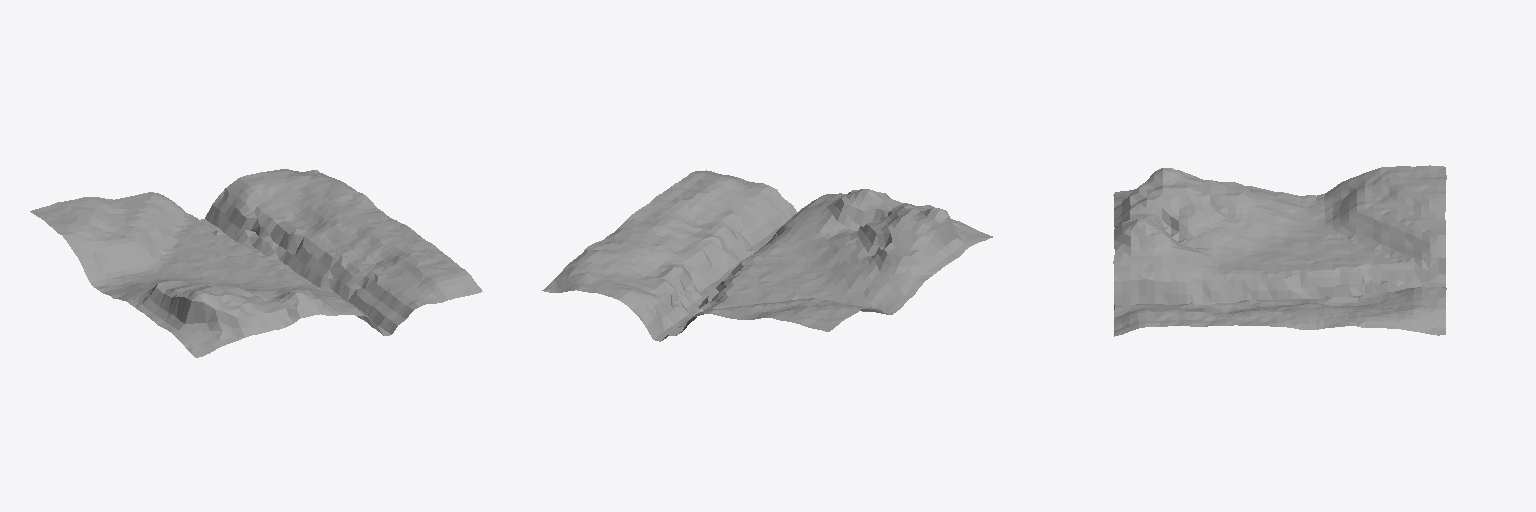
Rendered from landscape2.obj.
The picture shows the model from 3 angles: view 1: azimuth 30°, elevation 25°; view 2: azimuth 150°, elevation 25°; view 3: azimuth 270°, elevation 25°; orthographic projection.
Visible parts, largest first — view 1: Plane; view 2: Plane; view 3: Plane.
Boxes of the visible parts, box(x1,y1,x2,y2) form: Plane: box(30, 169, 482, 357); Plane: box(542, 170, 992, 341); Plane: box(1113, 165, 1446, 336).
Bounding box in the file's own units: 103 × 21.76 × 103.